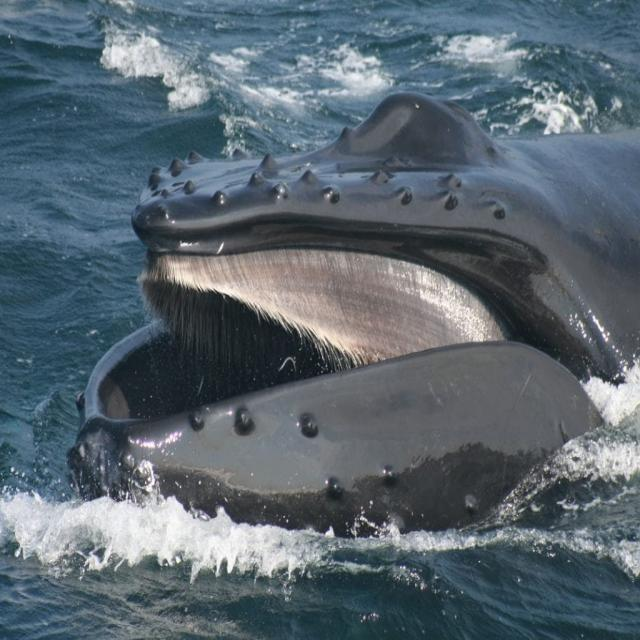whale: (68, 92, 639, 534)
